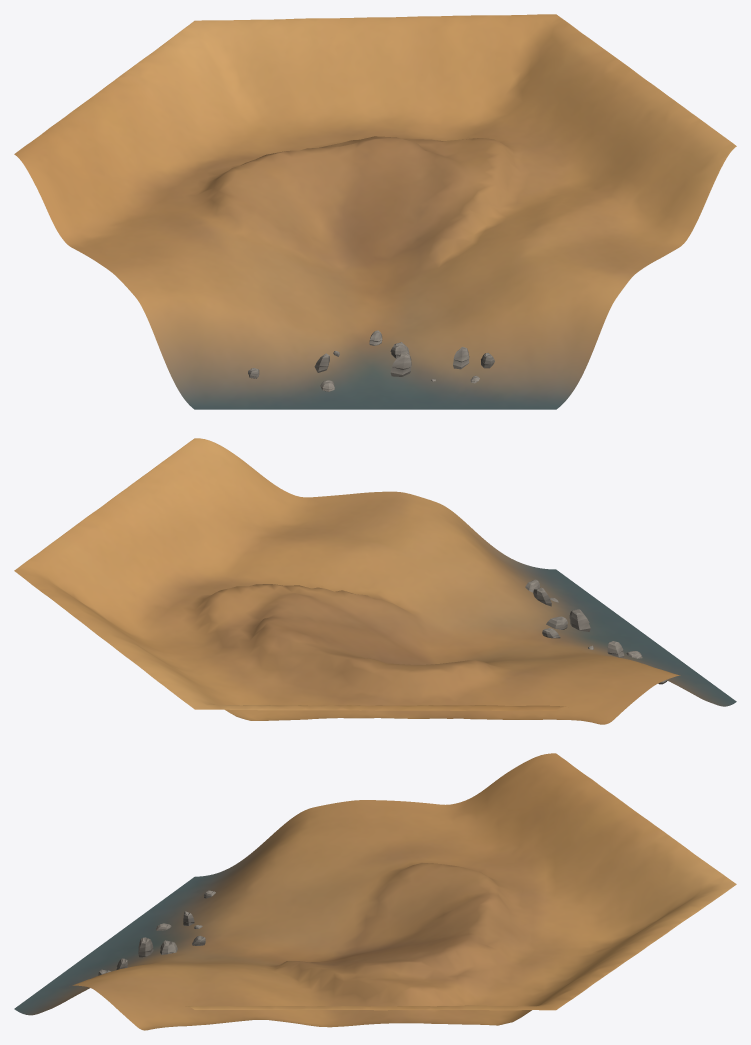
Rendered from costa_-03_+06.glb.
3 renders of one model, top to bottom at view 1: azimuth 30°, elevation 25°; view 2: azimuth 150°, elevation 25°; view 3: azimuth 270°, elevation 25°, orthographic.
Parts seen in each view (by area): view 1: terrain, Formações costeiras; view 2: terrain, Formações costeiras; view 3: terrain, Formações costeiras.
Boxes of the visible parts, bbox=[...] form: terrain: bbox=[14, 14, 736, 409]; Formações costeiras: bbox=[248, 330, 494, 391]; terrain: bbox=[14, 438, 736, 724]; Formações costeiras: bbox=[525, 579, 667, 684]; terrain: bbox=[14, 753, 736, 1030]; Formações costeiras: bbox=[98, 890, 215, 975].
Bounding box in the file's own units: 4330 × 1003 × 5000.
1 material, 1 textured.
